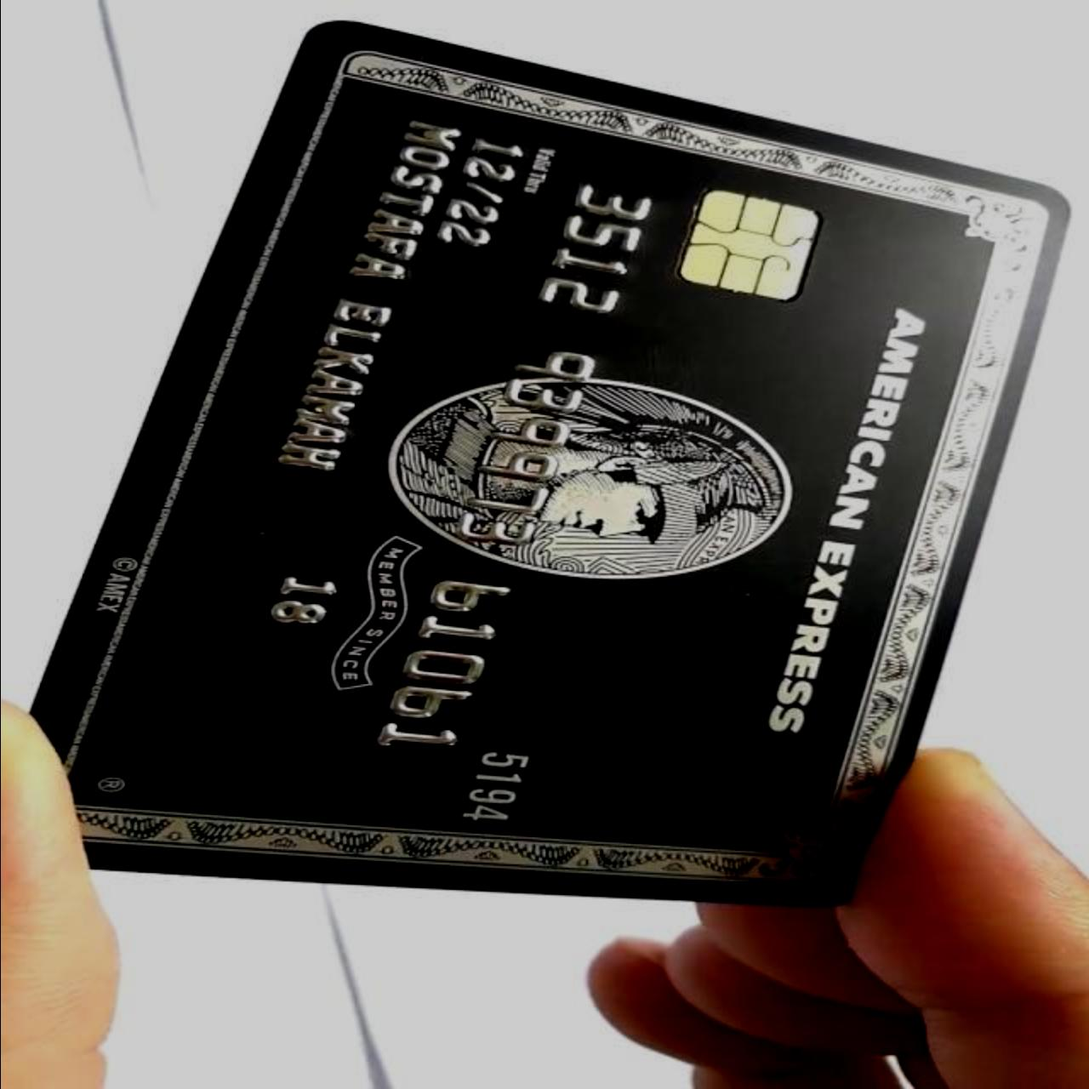credit_card: (34, 17, 1075, 909)
